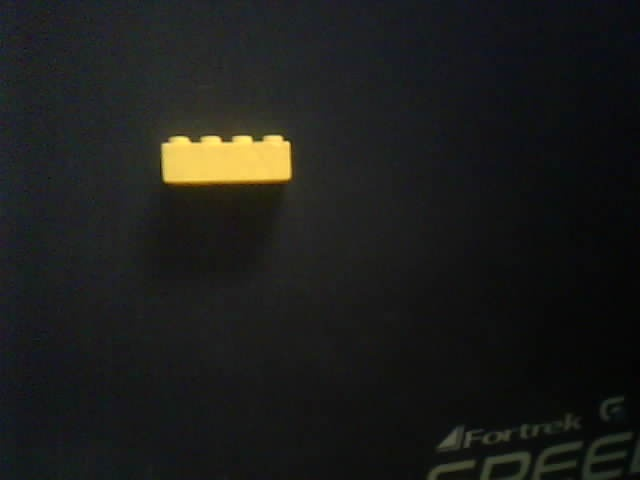lego: (159, 134, 292, 188)
